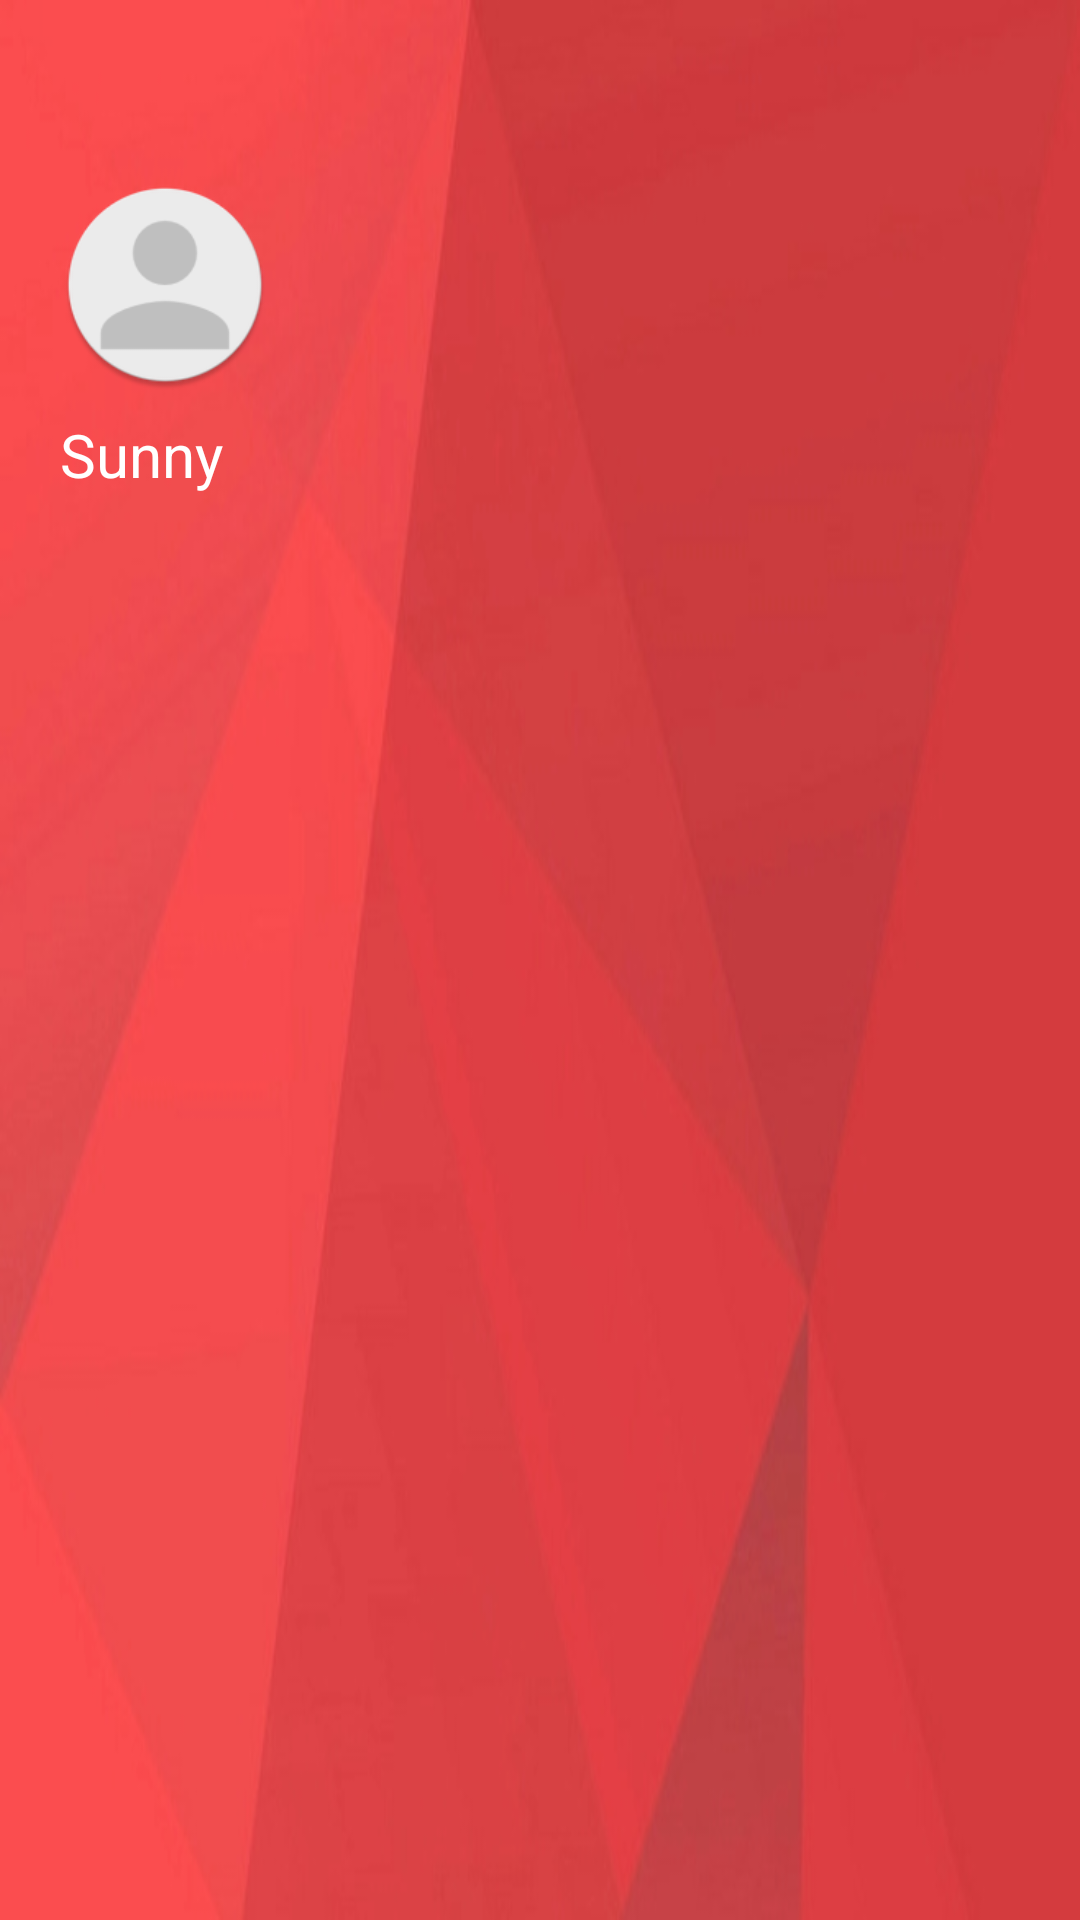

Screen size 1080×1920. Icon name, then its center in pixels as [x,y]:
user: [165,287]
